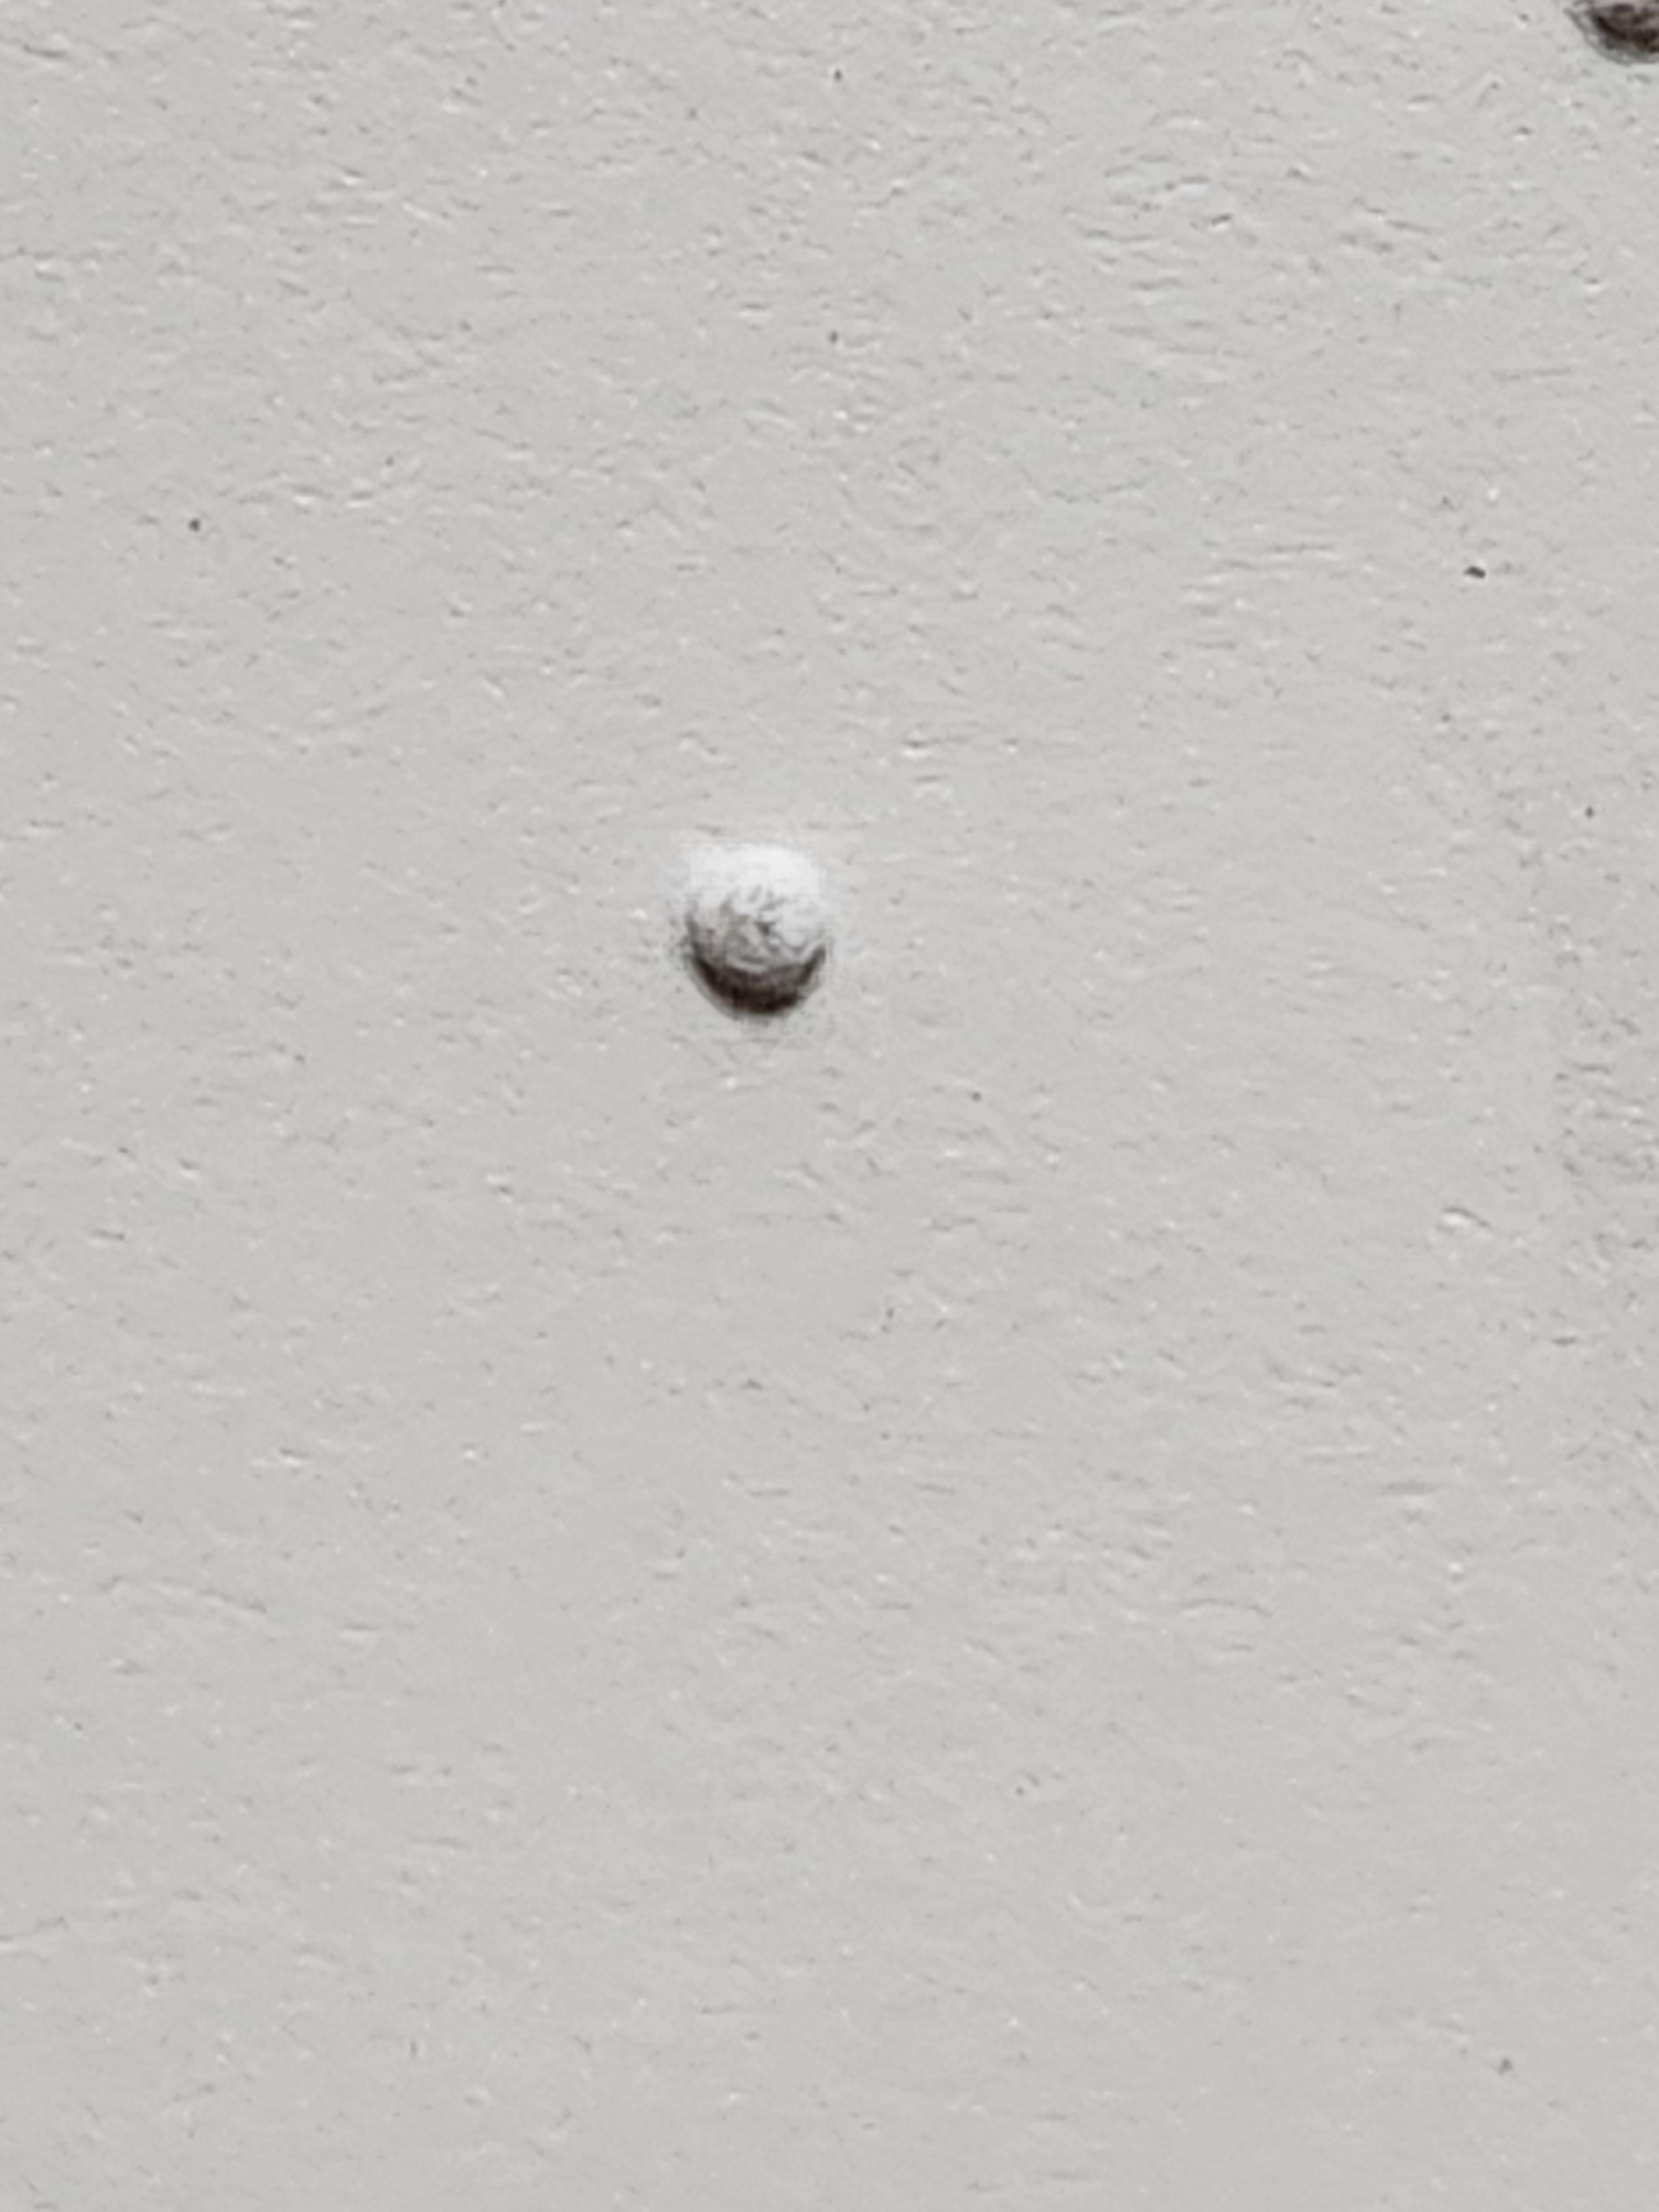capital_sign: (425, 388, 840, 1014)
